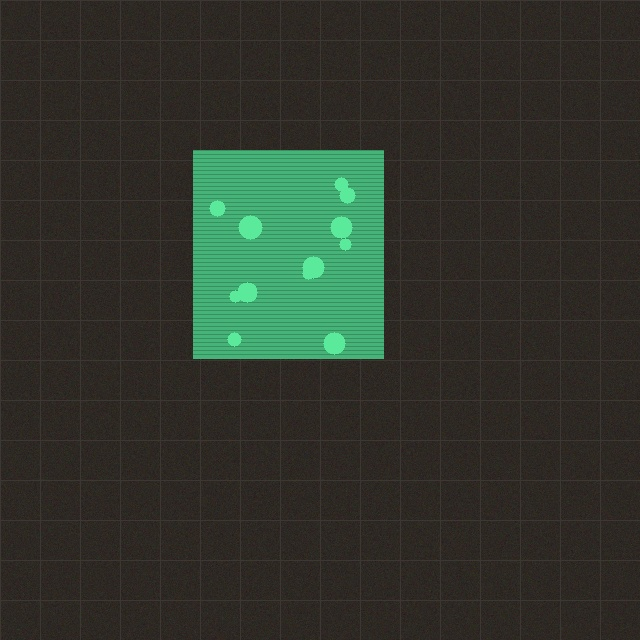over_extrusion: (188, 145, 388, 363)
